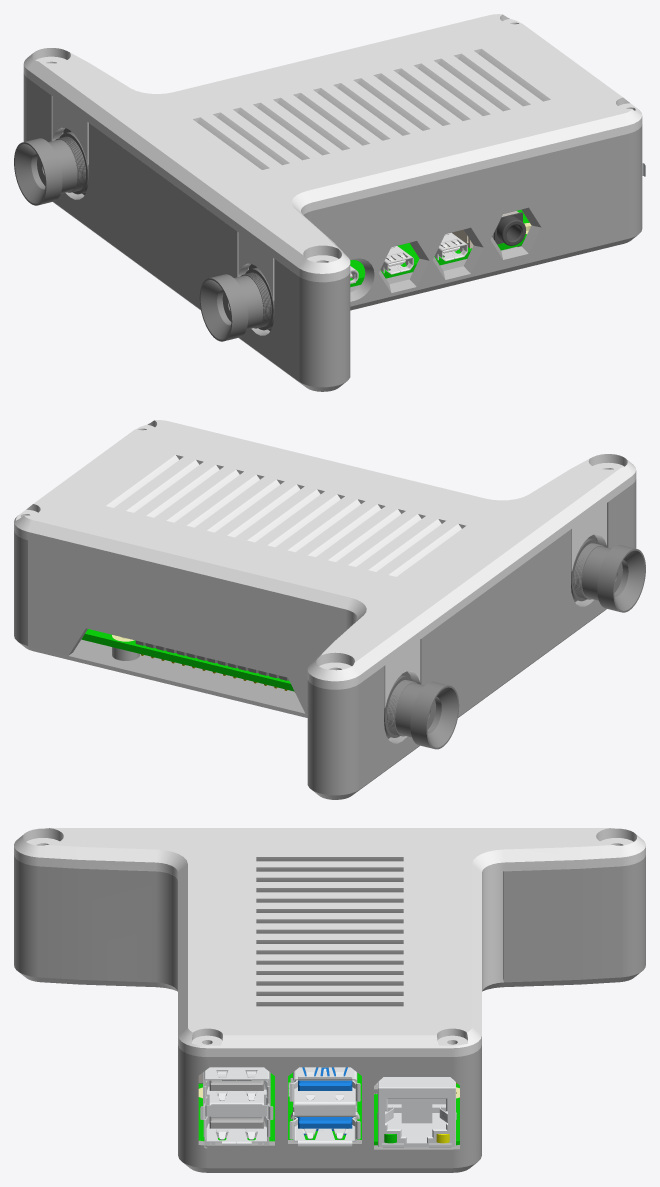
The model's file is roboeye-v2.glb.
3 renders of one model, top to bottom at view 1: azimuth 30°, elevation 25°; view 2: azimuth 150°, elevation 25°; view 3: azimuth 270°, elevation 25°, orthographic. The views are drawn at different scales.
Parts seen in each view (by area): view 1: upper_enclosure_v2-1, lower_enclosure_v2-1, b0264-1, PCB, RPi4ModelB-1, Microphone Plug, RPi4ModelB-1, Female Micro HDMI Connector, RPi4ModelB-3, Female Micro HDMI Connector, RPi4ModelB-2; view 2: upper_enclosure_v2-1, lower_enclosure_v2-1, b0264-1, PCB, RPi4ModelB-1, 2.54 mm DUPONT MALE PIN HEADER, IO, 2X20, RPi4ModelB-1; view 3: upper_enclosure_v2-1, lower_enclosure_v2-1, Gigabit Ethernet Port, RPi4ModelB-1, 2X USB2.0 PORTS, RPi4ModelB-1, 2X USB3.0 PORTS, RPi4ModelB-2, PCB, RPi4ModelB-1.
Boxes of the visible parts, left/top/right/bottom form: upper_enclosure_v2-1: left=23, top=14, right=642, bottom=300; lower_enclosure_v2-1: left=23, top=73, right=642, bottom=391; b0264-1: left=14, top=128, right=274, bottom=341; PCB, RPi4ModelB-1: left=350, top=209, right=531, bottom=287; Microphone Plug, RPi4ModelB-1: left=492, top=211, right=526, bottom=245; Female Micro HDMI Connector, RPi4ModelB-3: left=380, top=246, right=413, bottom=274; Female Micro HDMI Connector, RPi4ModelB-2: left=435, top=232, right=467, bottom=261; upper_enclosure_v2-1: left=14, top=420, right=636, bottom=713; lower_enclosure_v2-1: left=14, top=479, right=636, bottom=799; b0264-1: left=384, top=534, right=645, bottom=749; PCB, RPi4ModelB-1: left=81, top=629, right=294, bottom=691; 2.54 mm DUPONT MALE PIN HEADER, IO, 2X20, RPi4ModelB-1: left=135, top=640, right=288, bottom=690; upper_enclosure_v2-1: left=14, top=828, right=645, bottom=1056; lower_enclosure_v2-1: left=14, top=855, right=645, bottom=1172; Gigabit Ethernet Port, RPi4ModelB-1: left=377, top=1077, right=456, bottom=1147; 2X USB2.0 PORTS, RPi4ModelB-1: left=200, top=1067, right=273, bottom=1148; 2X USB3.0 PORTS, RPi4ModelB-2: left=289, top=1067, right=360, bottom=1146; PCB, RPi4ModelB-1: left=198, top=1072, right=459, bottom=1145.
Bounding box in the file's own units: 0.1149 × 0.031 × 0.129.
